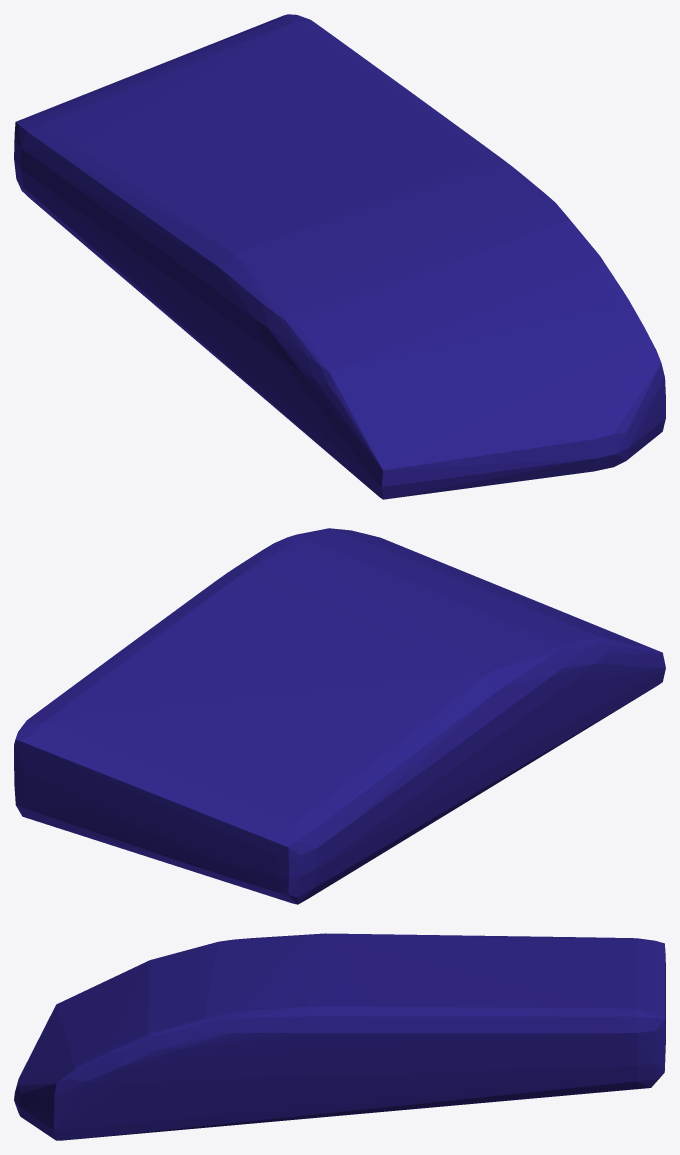
File: right-shoulder-yaw-0_part_18.obj
The picture shows the model from 3 angles, top to bottom: view 1: azimuth 30°, elevation 25°; view 2: azimuth 150°, elevation 25°; view 3: azimuth 270°, elevation 25°; orthographic projection. The views are drawn at different scales.
Bounding box in the file's own units: 0.0198 × 0.0101 × 0.0458.
